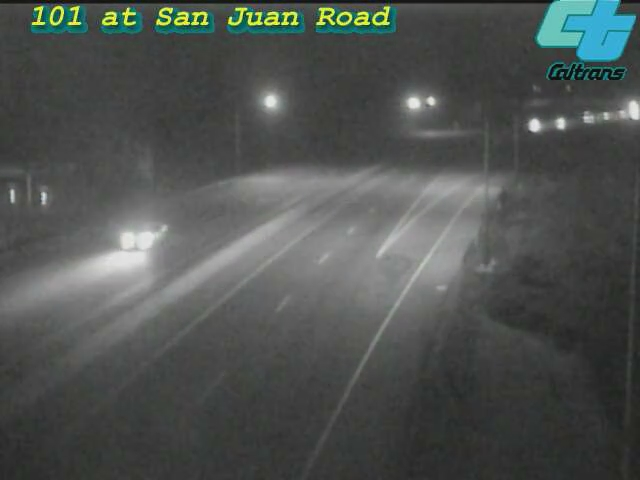vehicle: (103, 196, 183, 276), (582, 91, 632, 141), (564, 93, 614, 143), (539, 98, 589, 148), (509, 101, 559, 151), (597, 90, 640, 140), (608, 85, 640, 135)
